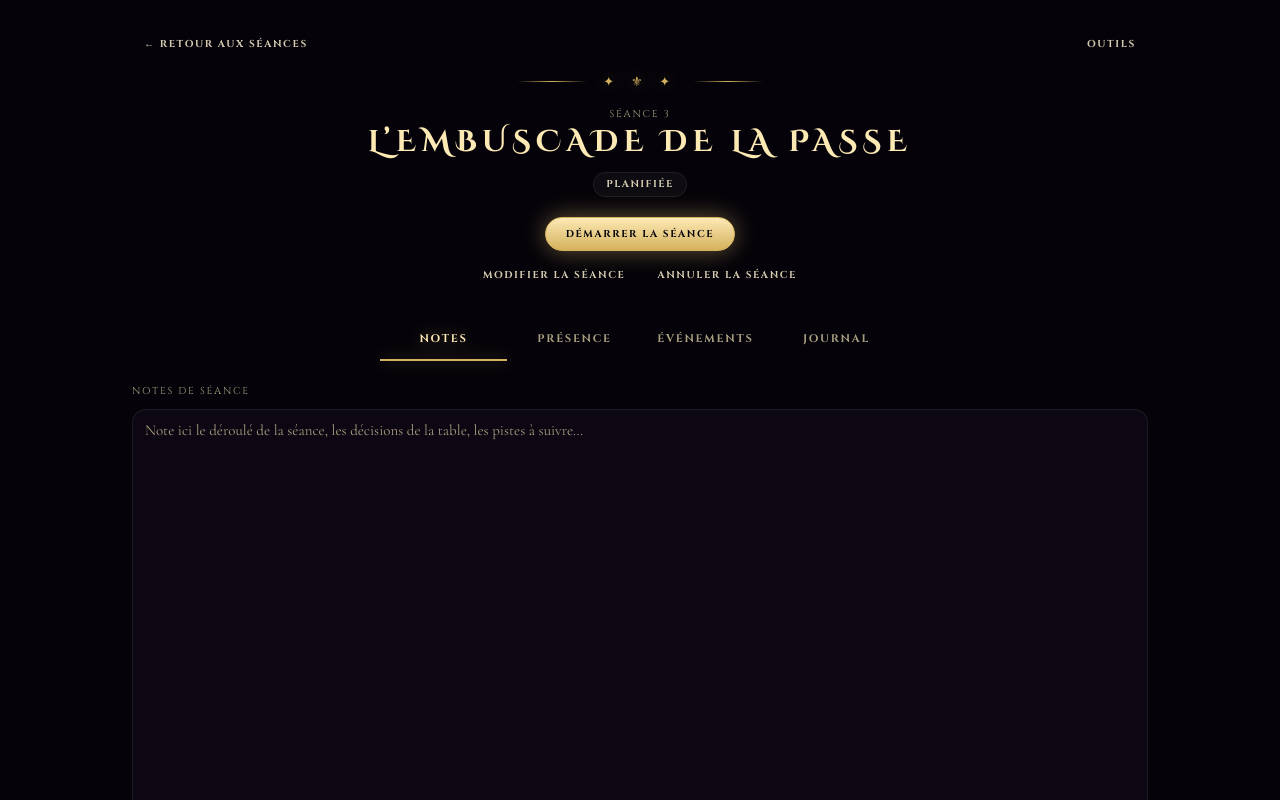
Test case: <SessionScreen> — démarrage / clôture (MJ) › garde-fou « une autre séance active » → message dédié, pas de pointeur posé
The width and height of the screenshot is (1280, 800).
Click the button "Démarrer la séance" at (640, 234), box [545,216,735,250]
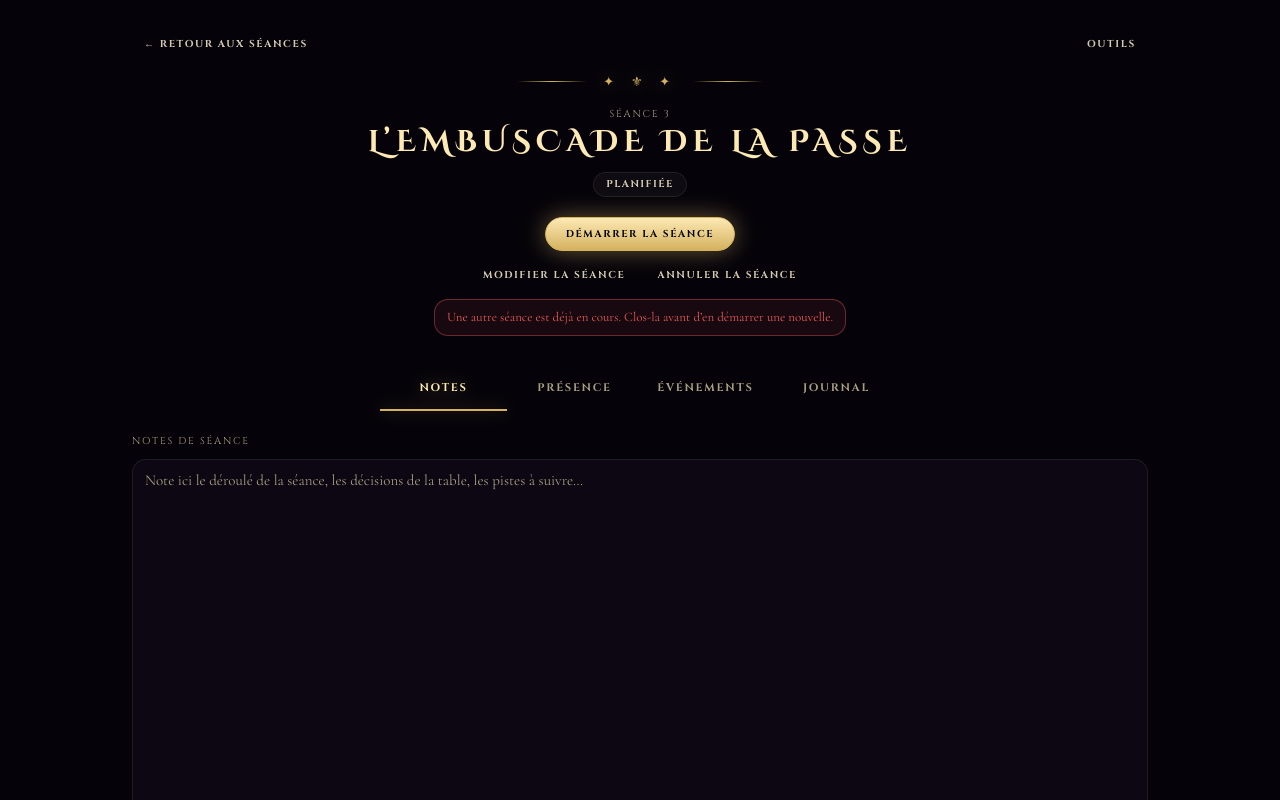
expect the text "Une autre séance est déjà en cours. Clos-la avant d’en démarrer une nouvelle." is shown: met, box [434,298,846,336]
